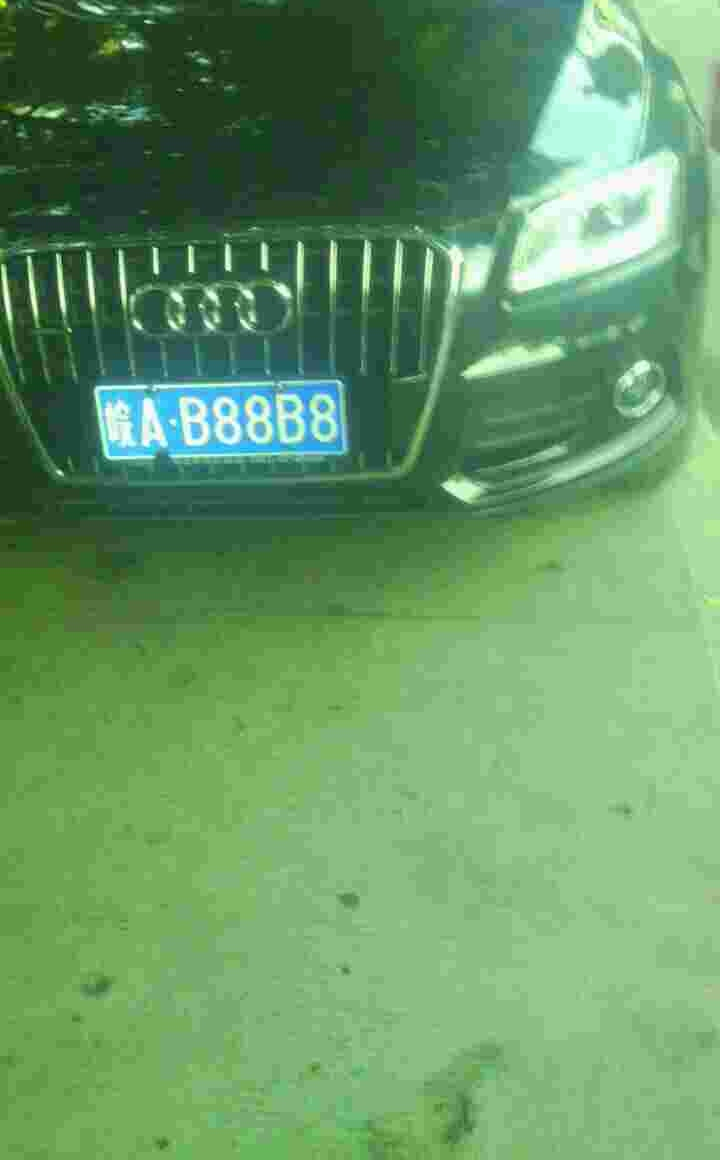car: (93, 383, 351, 458)
